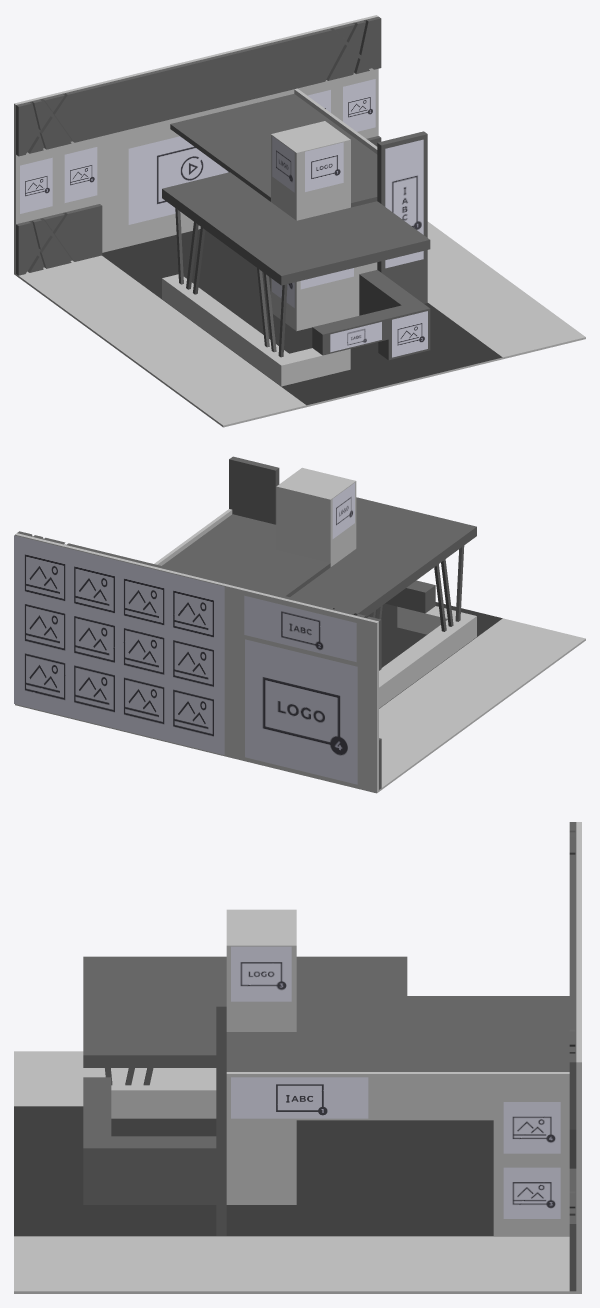
File: stant49.gltf
The picture shows the model from 3 angles, top to bottom: view 1: azimuth 30°, elevation 25°; view 2: azimuth 150°, elevation 25°; view 3: azimuth 270°, elevation 25°; orthographic projection. The views are drawn at different scales.
Parts seen in each view (by area): view 1: modrenk2, modrenk1, modzemin, modvideo1, moddikyazi1, moddikgorsel4, moddikgorsel3, modlogo1, moddikgorsel2, modgorsel2, modyazi3, modlogo2; view 2: modgenisgorsel, modrenk1, modrenk2, modlogo4, modyazi2, modzemin, modlogo2; view 3: modrenk1, modrenk2, modzemin, modyazi1, modlogo3, modgorsel4, modgorsel3.
Boxes of the visible parts, box(x1,y1,x2,y2) form: modrenk2: box(16, 16, 430, 360); modrenk1: box(14, 15, 585, 427); modzemin: box(102, 229, 502, 405); modvideo1: box(128, 136, 228, 224); moddikyazi1: box(385, 139, 423, 268); moddikgorsel4: box(64, 147, 97, 202); moddikgorsel3: box(20, 157, 52, 213); modlogo1: box(305, 142, 343, 191); moddikgorsel2: box(343, 79, 375, 131); modgorsel2: box(392, 311, 427, 357); modyazi3: box(330, 322, 381, 352); modlogo2: box(272, 136, 294, 192); modgenisgorsel: box(14, 535, 224, 754); modrenk1: box(15, 467, 585, 793); modrenk2: box(17, 456, 476, 789); modlogo4: box(245, 639, 357, 784); modyazi2: box(244, 595, 356, 661); modzemin: box(366, 602, 502, 708); modlogo2: box(332, 483, 354, 538); modrenk1: box(14, 822, 581, 1293); modrenk2: box(83, 822, 576, 1291); modzemin: box(14, 1106, 576, 1236); modyazi1: box(231, 1077, 368, 1118); modlogo3: box(231, 946, 291, 1001); modgorsel4: box(503, 1102, 560, 1153); modgorsel3: box(503, 1167, 560, 1218).
Size of what is drawn, in the model's own units: 1 by 0.4748 by 1.01.
25 materials, 22 textured.
